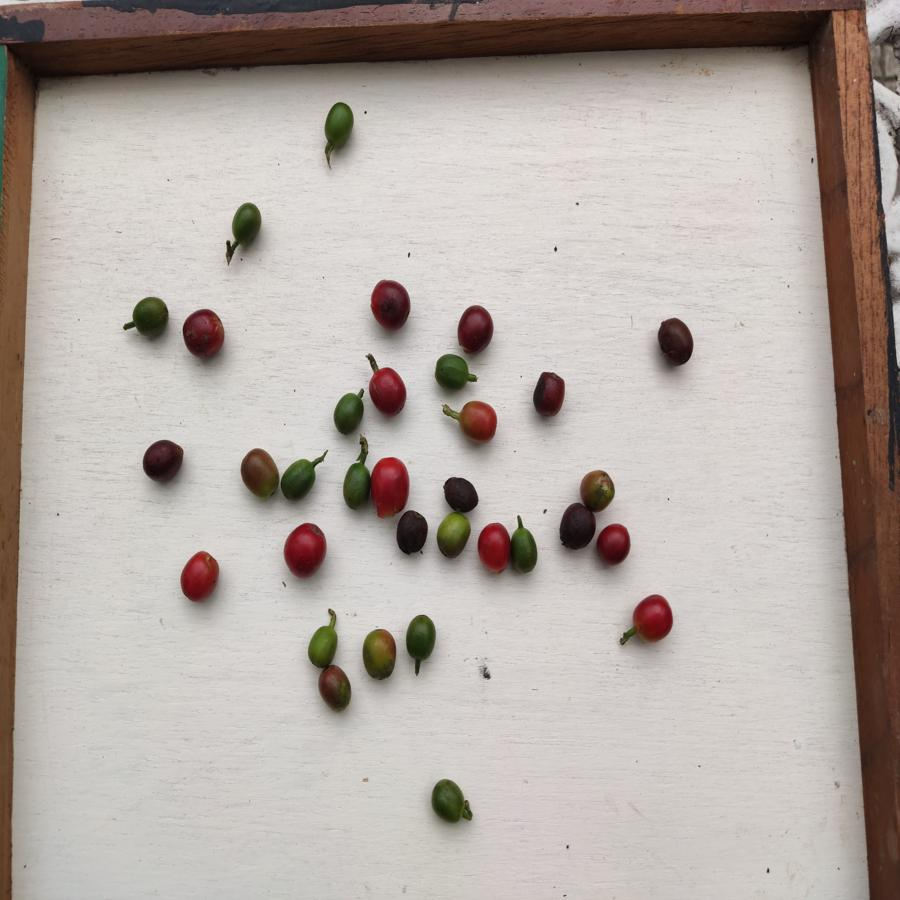Inmaduro: (431, 775, 467, 829), (338, 458, 372, 514), (229, 200, 266, 246), (129, 296, 171, 336), (323, 101, 360, 146), (305, 622, 342, 666), (404, 614, 438, 661), (432, 352, 472, 391), (330, 390, 366, 431), (281, 456, 315, 499), (512, 526, 538, 574)
Maduro: (281, 521, 331, 581), (365, 365, 410, 422), (368, 455, 410, 515), (179, 547, 222, 604), (633, 594, 676, 644), (595, 519, 634, 571), (475, 519, 511, 574), (462, 399, 504, 444)
Pinton: (239, 444, 281, 501), (359, 626, 401, 681), (314, 666, 354, 711), (580, 468, 614, 512)
Sobremaduro: (181, 308, 231, 359), (139, 436, 188, 485), (655, 315, 698, 369), (370, 277, 413, 331), (459, 302, 496, 354), (560, 501, 595, 549), (533, 371, 567, 419), (442, 474, 481, 514), (397, 508, 429, 555)
